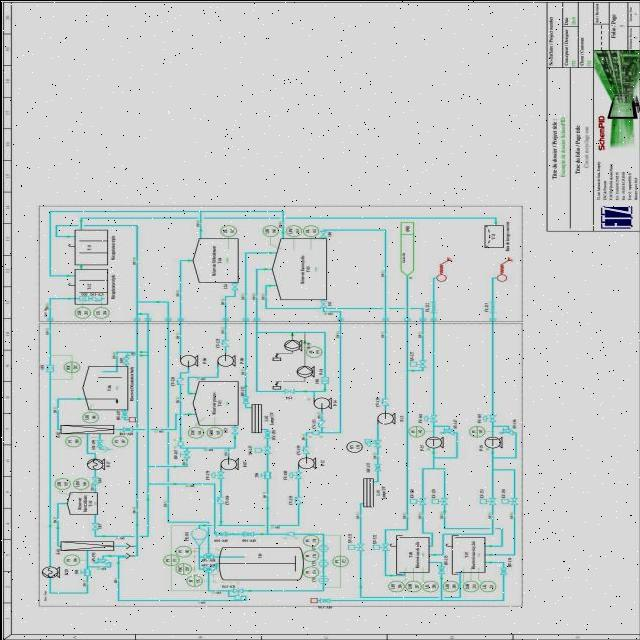4 Way Ball Valve: (199, 565, 214, 573), (201, 552, 213, 558)
Ball Valve: (90, 438, 103, 449), (209, 530, 225, 538), (432, 564, 444, 574), (370, 462, 382, 472), (241, 391, 249, 405), (118, 408, 128, 418), (119, 424, 133, 430), (240, 530, 254, 536), (497, 566, 505, 574), (262, 430, 270, 438)
Centrifugal Pump: (368, 411, 398, 427), (304, 394, 332, 410), (291, 455, 323, 469), (172, 352, 200, 367), (213, 456, 239, 470), (208, 353, 234, 365)
Check Valve: (217, 337, 229, 350), (312, 418, 326, 429), (86, 295, 104, 303), (376, 394, 387, 406), (298, 444, 312, 453), (214, 494, 222, 504), (290, 496, 300, 503)
Gate Valve: (86, 522, 98, 532), (228, 281, 240, 291), (120, 354, 131, 364), (314, 300, 326, 308), (277, 388, 294, 393), (228, 425, 236, 434), (89, 476, 97, 484)
Hand Operated Gate Valve: (76, 567, 92, 577), (177, 448, 190, 458), (257, 471, 271, 478)
Needle Valve: (227, 586, 245, 592)
PSV: (89, 557, 108, 564), (495, 428, 514, 434), (436, 428, 454, 434)
Pneumatic-Diaphragm Gate Valve: (206, 470, 222, 480), (478, 414, 496, 422), (421, 414, 435, 422), (286, 470, 300, 478)
Powered Gate Valve: (250, 444, 272, 454), (475, 496, 495, 506), (342, 542, 365, 550), (498, 496, 520, 504), (426, 496, 448, 504), (408, 496, 426, 504), (367, 543, 387, 550), (409, 359, 427, 365)
Pressure Regulator: (360, 438, 382, 448)
